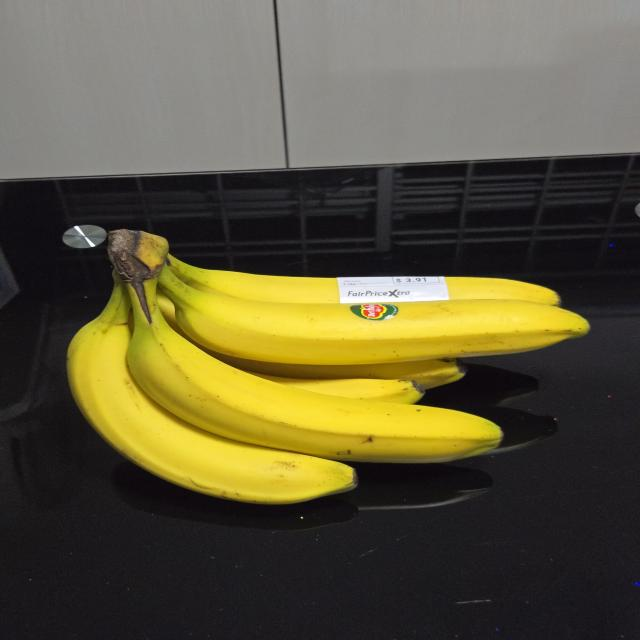banana: (56, 218, 617, 522)
